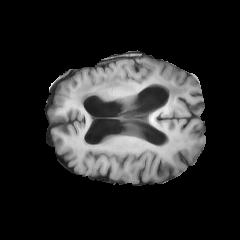glioma: (75, 58, 189, 104)
